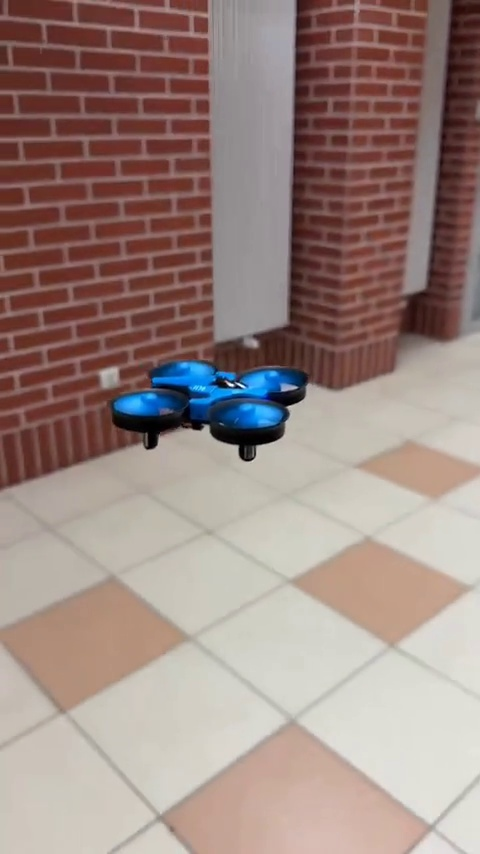drone: (113, 360, 309, 460)
